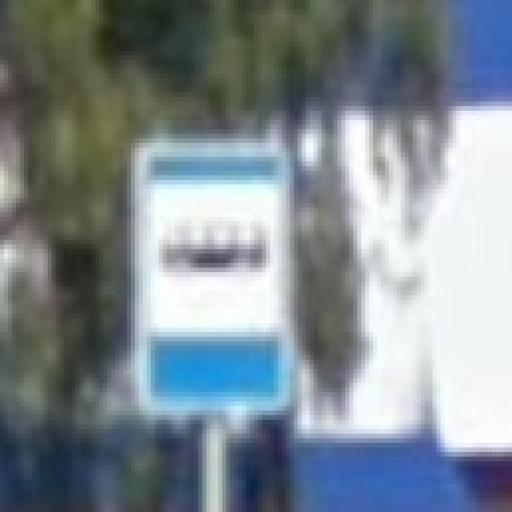traffic_sign: (132, 144, 291, 416)
